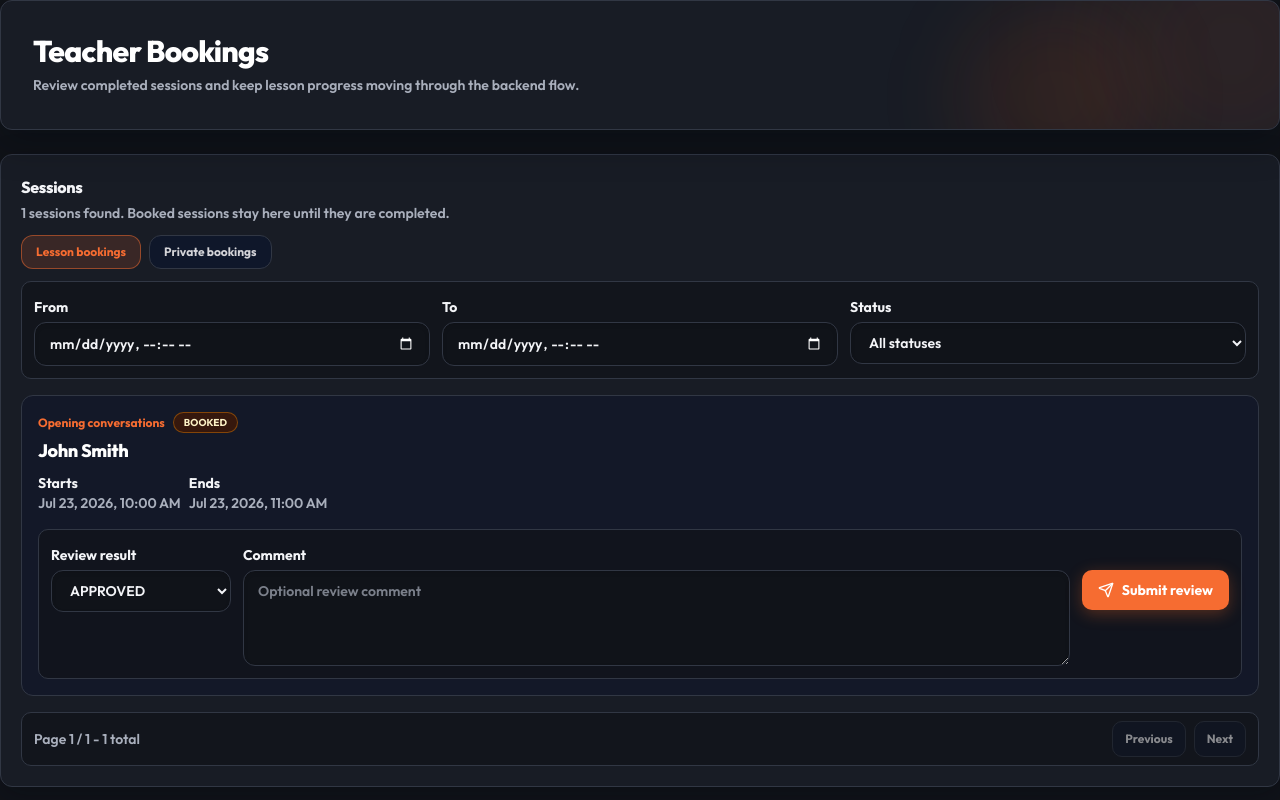
it: Teacher workspace › completes private bookings from the private tab
This screenshot has width=1280, height=800.
Click the button with test id "teacher-booking-type-private".
click(210, 252)  # box [149, 235, 272, 269]
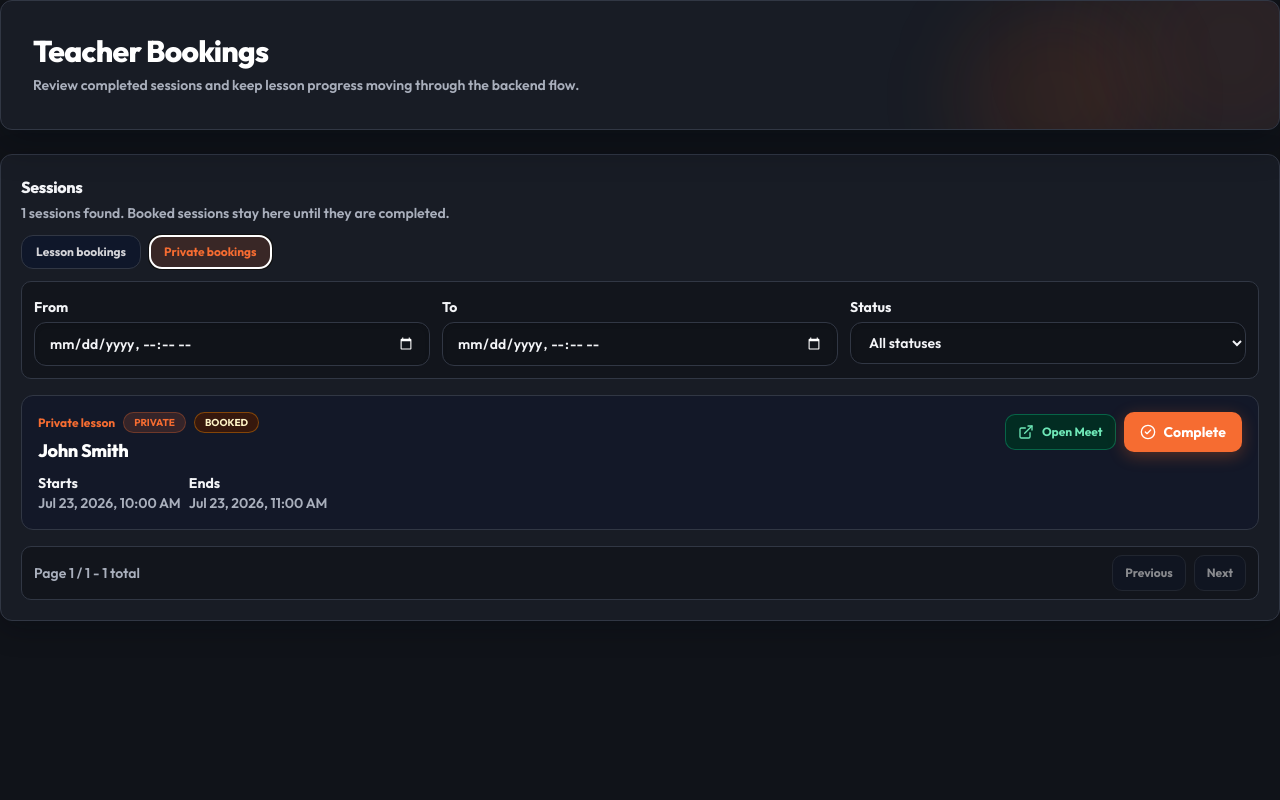
Expected: the text "Private lesson" is shown, [38, 414, 115, 430]
Click the button with test id "complete-private-booking-91".
click(1183, 432)  # box [1124, 412, 1242, 452]
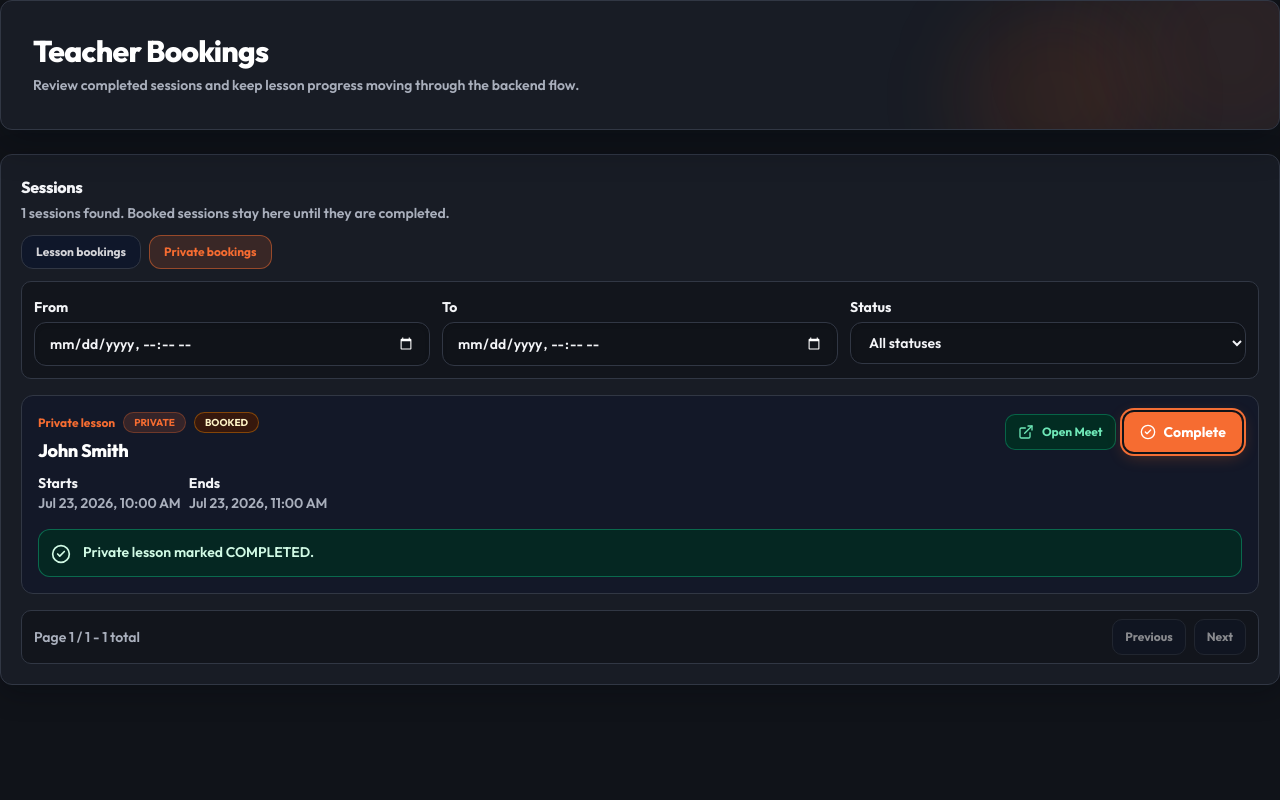
Expected: the text "Private lesson marked COMPLETED." is shown, [38, 529, 1242, 577]
